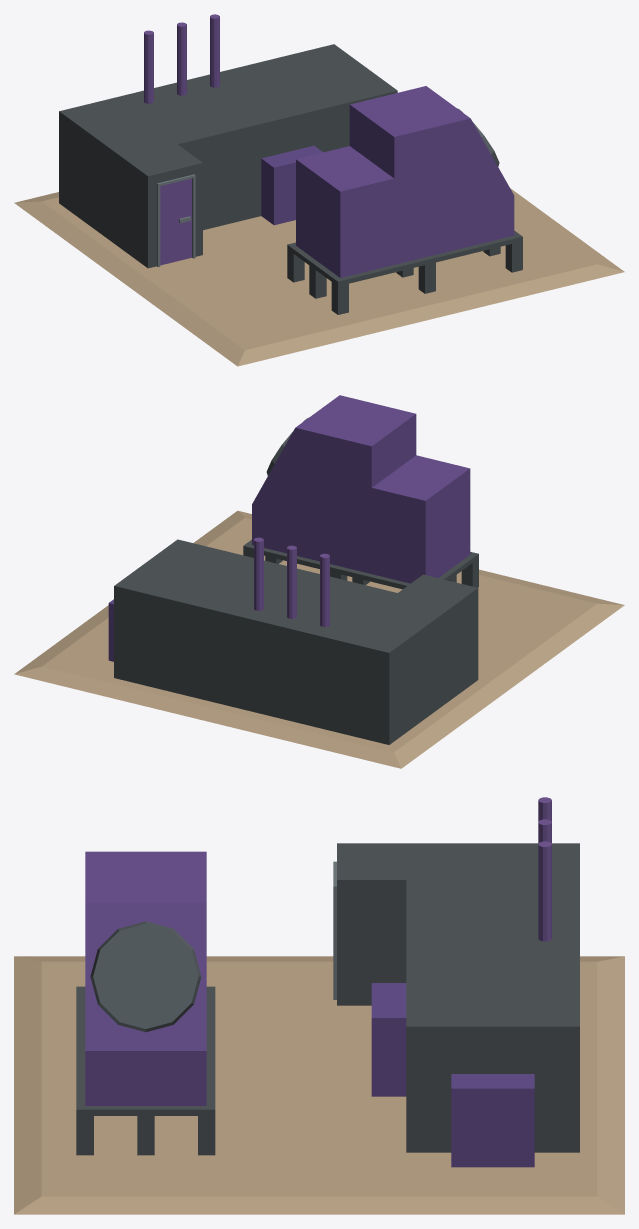
The model's file is MSI-IntelCentre.fbx.
3 renders of one model, top to bottom at view 1: azimuth 30°, elevation 25°; view 2: azimuth 150°, elevation 25°; view 3: azimuth 270°, elevation 25°, orthographic. The views are drawn at different scales.
Parts seen in each view (by area): view 1: Intelligence Centre; view 2: Intelligence Centre; view 3: Intelligence Centre.
Boxes of the visible parts, bbox=[...] form: Intelligence Centre: bbox=[14, 14, 624, 366]; Intelligence Centre: bbox=[14, 395, 624, 768]; Intelligence Centre: bbox=[14, 797, 624, 1214].
Size of the model in its own units: 880 by 360 by 880.
